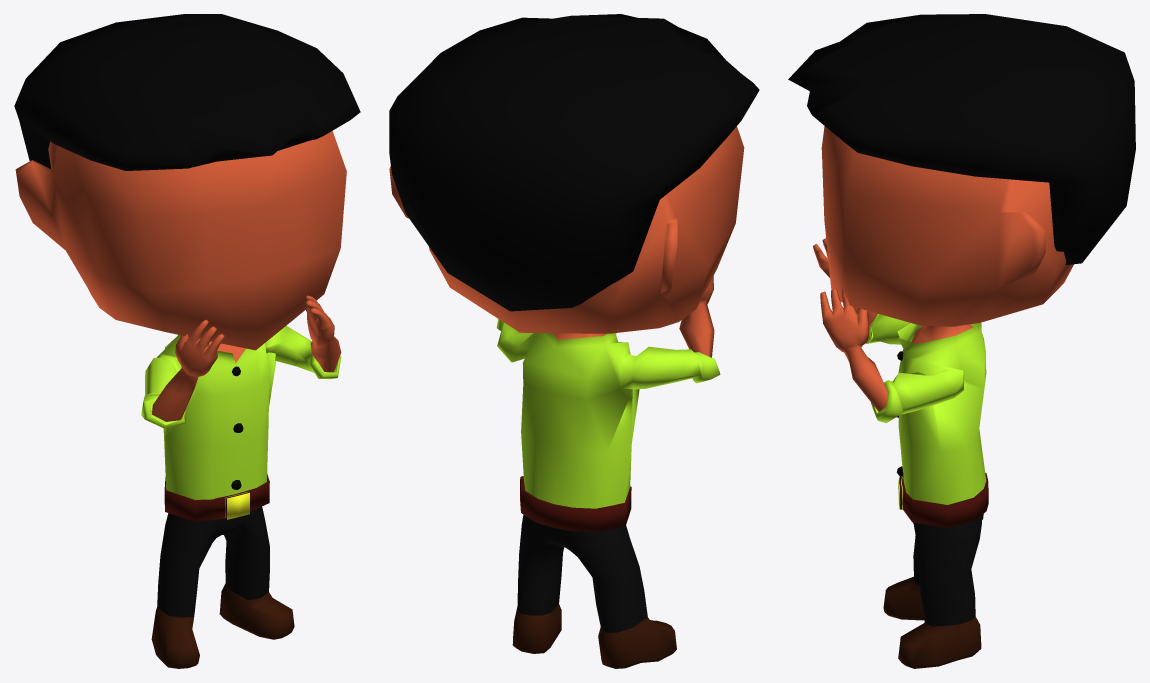
The model's file is Male NPC - green shirt,black pants.FBX.
3 views of the same model, side by side, from view 1: azimuth 30°, elevation 25°; view 2: azimuth 150°, elevation 25°; view 3: azimuth 270°, elevation 25° (orthographic). The views are drawn at different scales.
Parts seen in each view (by area): view 1: Group001, BrockLee013; view 2: Group001, BrockLee013; view 3: Group001, BrockLee013.
Part boxes in pixels (x1,y1,x2,y2): Group001: (14, 14, 360, 668); BrockLee013: (15, 131, 346, 489); Group001: (389, 14, 759, 668); BrockLee013: (389, 126, 744, 357); Group001: (788, 14, 1135, 668); BrockLee013: (813, 126, 1073, 476).
Size of the model in its own units: 89.88 by 95.91 by 180.
